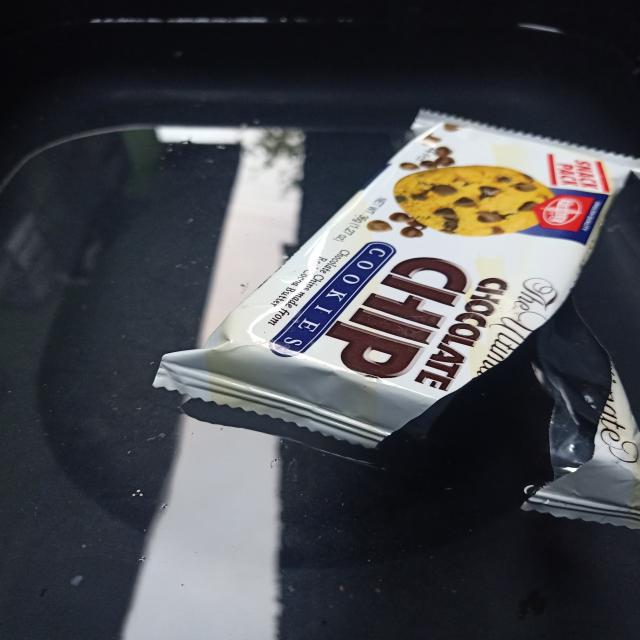Plastic Wrapper: (154, 104, 640, 543)
